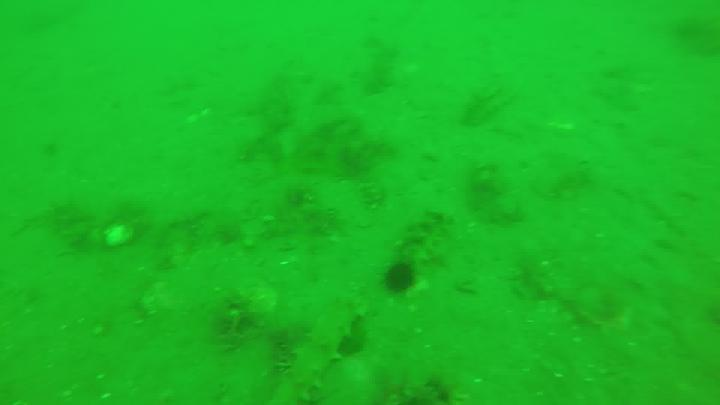echinus: (385, 266, 416, 295)
holothurian: (276, 298, 365, 405)
scallop: (102, 224, 134, 248)
